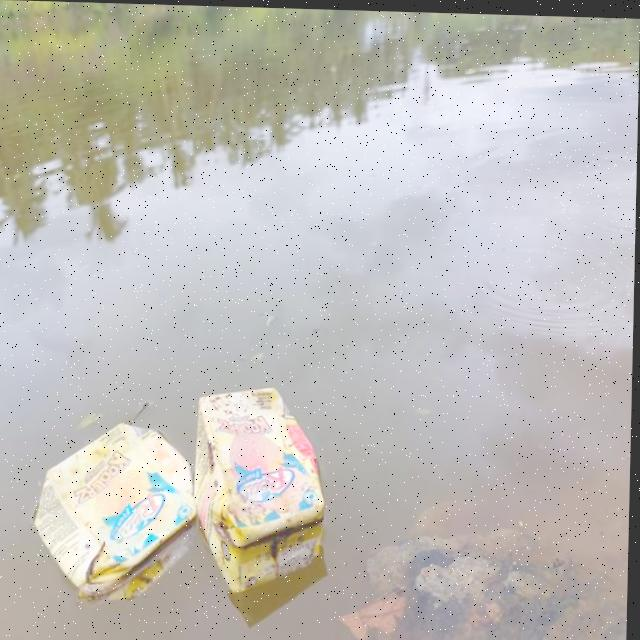paper: (11, 410, 205, 609), (188, 361, 346, 598)
